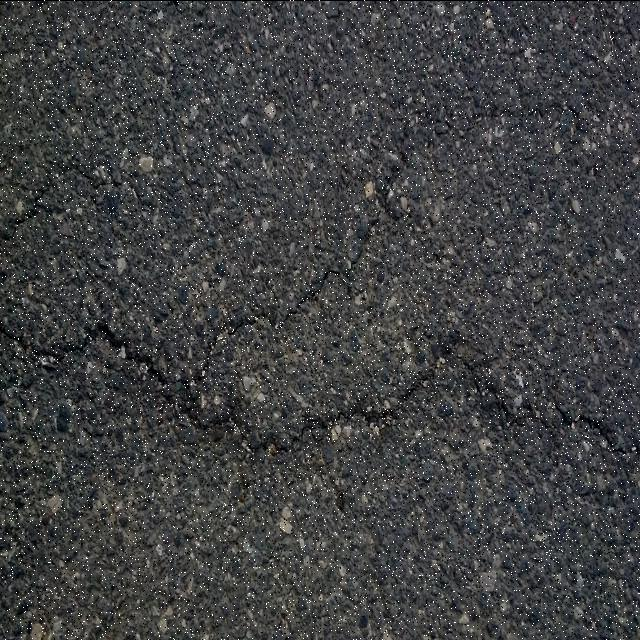Crack: (0, 252, 640, 455), (0, 163, 139, 249)
